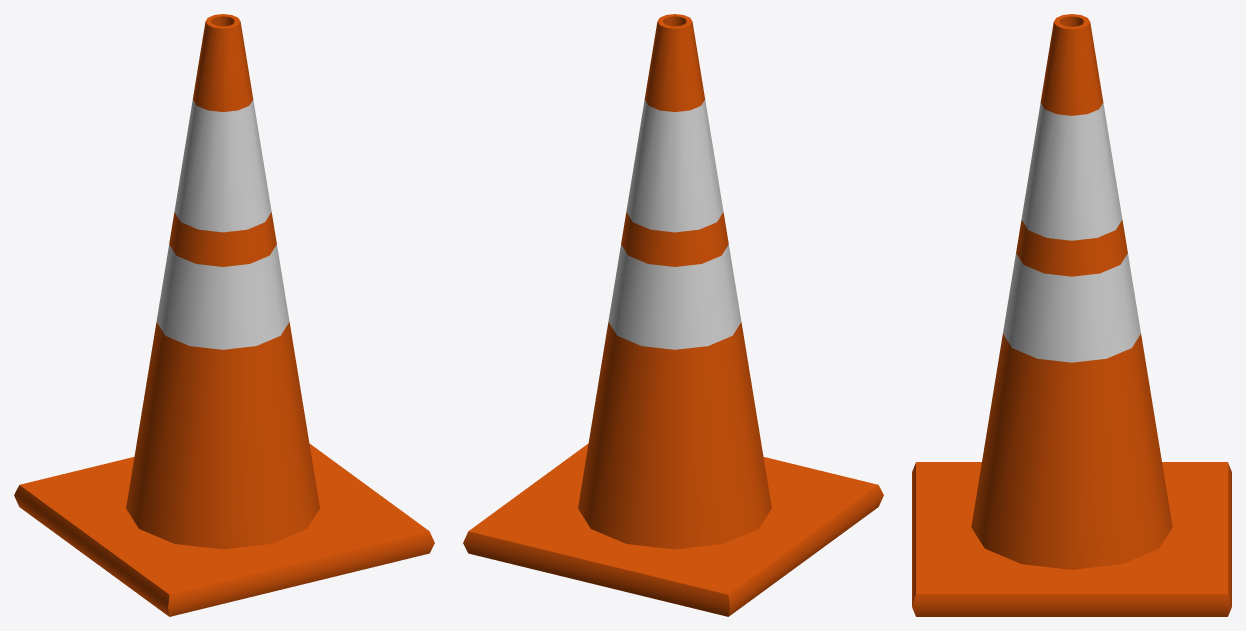
The model's file is Cone_small.fbx.
The picture shows the model from 3 angles, left to right: view 1: azimuth 30°, elevation 25°; view 2: azimuth 150°, elevation 25°; view 3: azimuth 270°, elevation 25°; orthographic projection. The views are drawn at different scales.
Parts seen in each view (by area): view 1: Cone_small; view 2: Cone_small; view 3: Cone_small.
Part boxes in pixels (<box>): Cone_small: <box>14,14,434,616</box>; Cone_small: <box>463,14,883,616</box>; Cone_small: <box>912,14,1231,616</box>.
Bounding box in the file's own units: 8.31 × 15.15 × 8.31.
